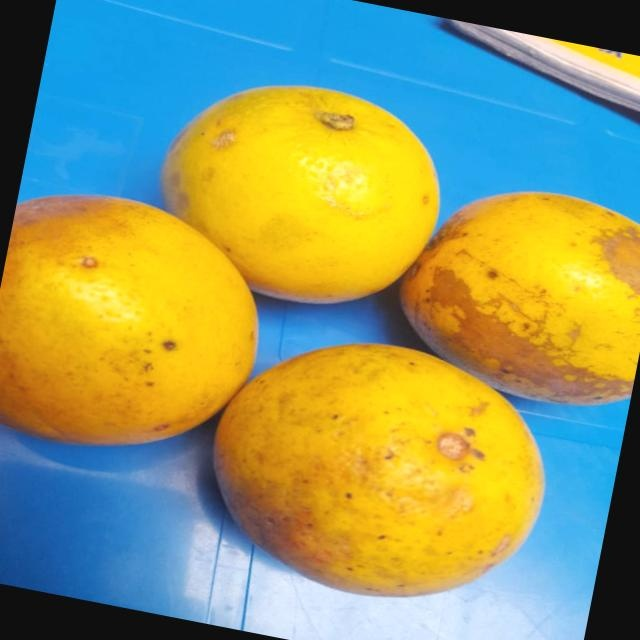agrume: (194, 319, 562, 626), (0, 180, 283, 487), (145, 61, 464, 322), (372, 154, 640, 410)
